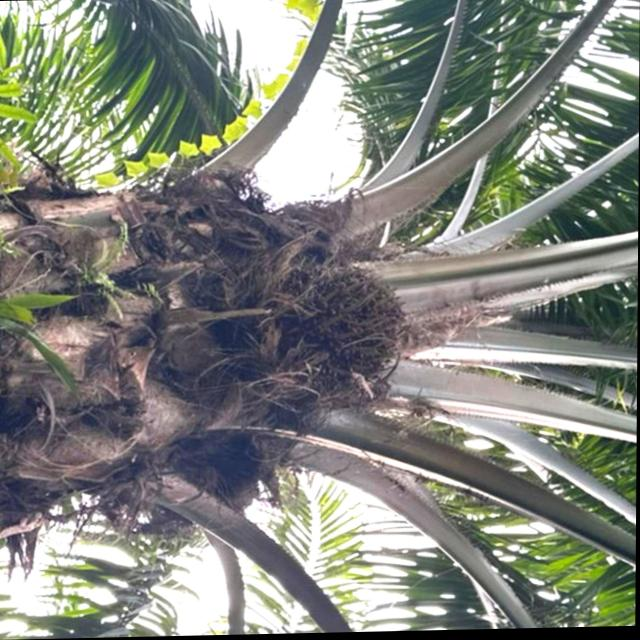ripe: (291, 252, 418, 408)
